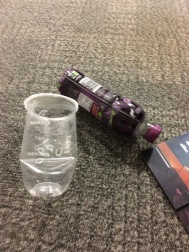bottle_purple: (42, 60, 177, 147)
